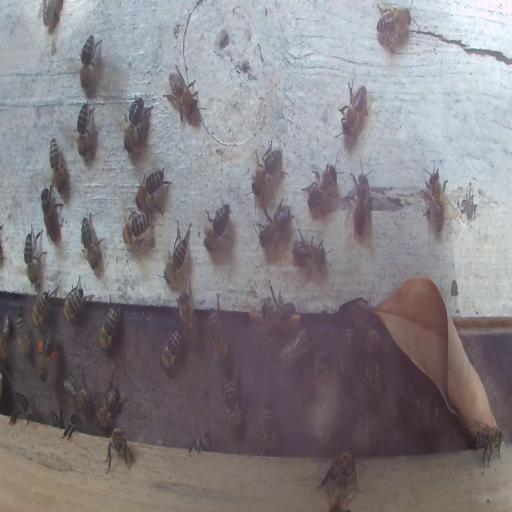nonpollenbee: (163, 64, 202, 126), (337, 77, 374, 142), (253, 141, 285, 204), (344, 164, 370, 238), (255, 200, 292, 252), (316, 451, 364, 491), (293, 231, 330, 282), (135, 165, 173, 214), (202, 198, 232, 260), (422, 162, 447, 236), (375, 4, 415, 50), (262, 278, 296, 332), (122, 93, 148, 160), (95, 376, 126, 432), (166, 217, 193, 281), (277, 322, 312, 369), (472, 420, 505, 468), (74, 98, 98, 164), (23, 221, 46, 288), (301, 164, 332, 213), (62, 366, 92, 414), (351, 310, 383, 354), (62, 274, 90, 324), (40, 184, 63, 244), (208, 294, 228, 362), (80, 214, 103, 273), (98, 296, 122, 352), (79, 33, 102, 90), (106, 425, 133, 472), (397, 384, 425, 426), (122, 210, 152, 248), (339, 325, 358, 384), (365, 356, 384, 412), (260, 400, 278, 457), (313, 350, 330, 410), (160, 326, 181, 374), (31, 289, 54, 331), (49, 138, 66, 194), (176, 284, 194, 334), (222, 378, 240, 428), (16, 307, 30, 361), (187, 427, 211, 454), (0, 310, 12, 364), (63, 412, 83, 438), (38, 0, 56, 28), (14, 394, 30, 420), (50, 409, 61, 426)
pollenbee: (37, 331, 58, 384)
